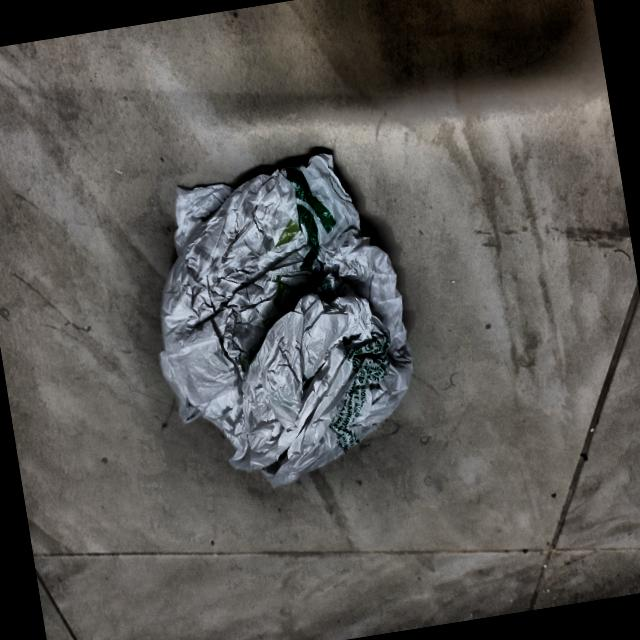plastic bag: (124, 132, 436, 512)
